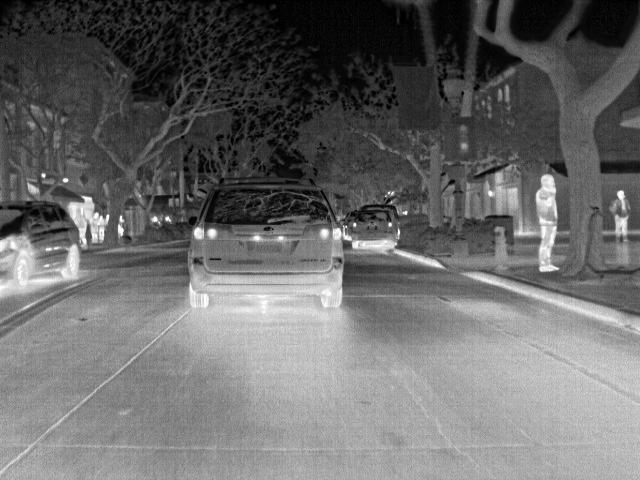car: (186, 174, 349, 310), (1, 197, 79, 293), (351, 211, 396, 248), (362, 204, 402, 236)
person: (534, 172, 561, 276), (608, 188, 634, 246), (73, 206, 87, 248), (89, 210, 101, 243), (115, 212, 129, 240), (95, 213, 107, 242)
